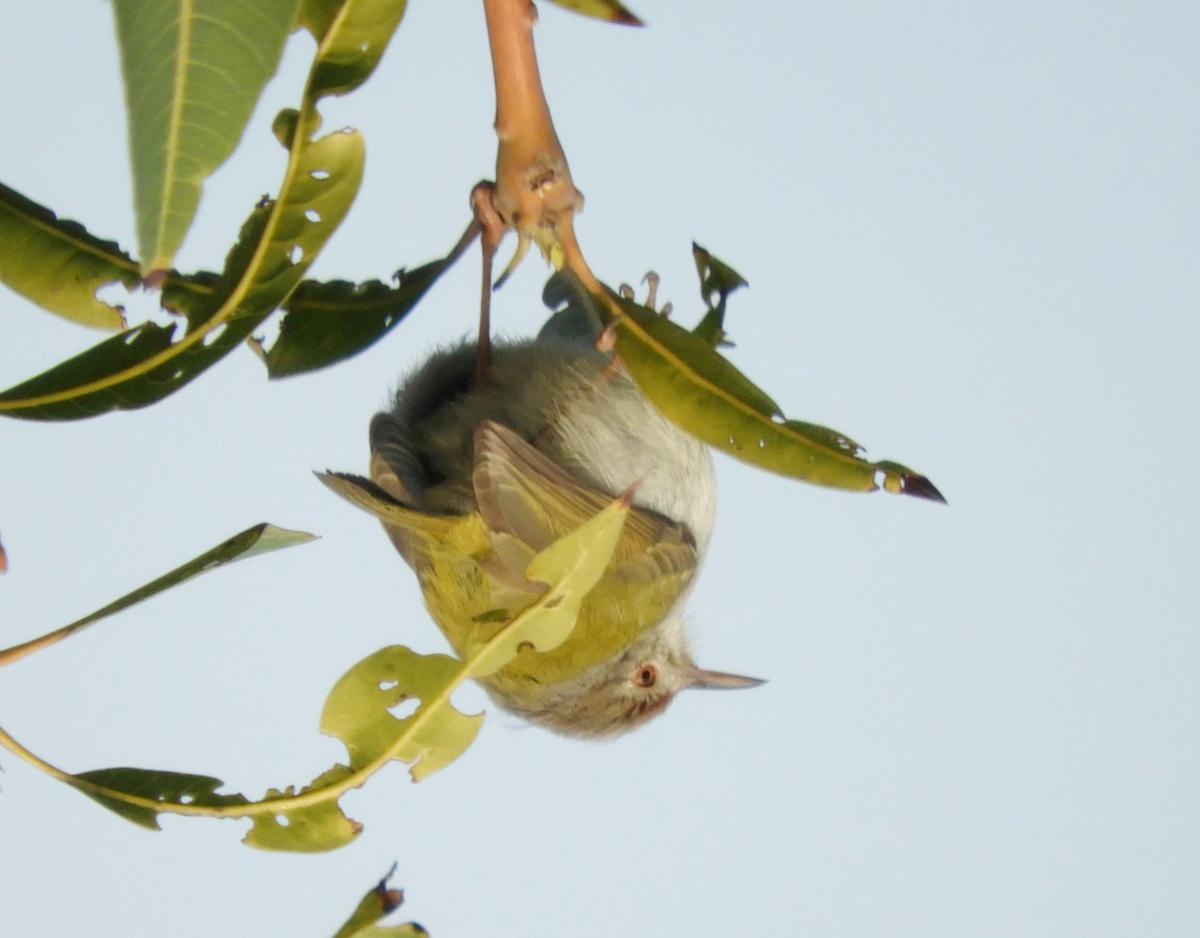tailorbird: (370, 159, 810, 763)
